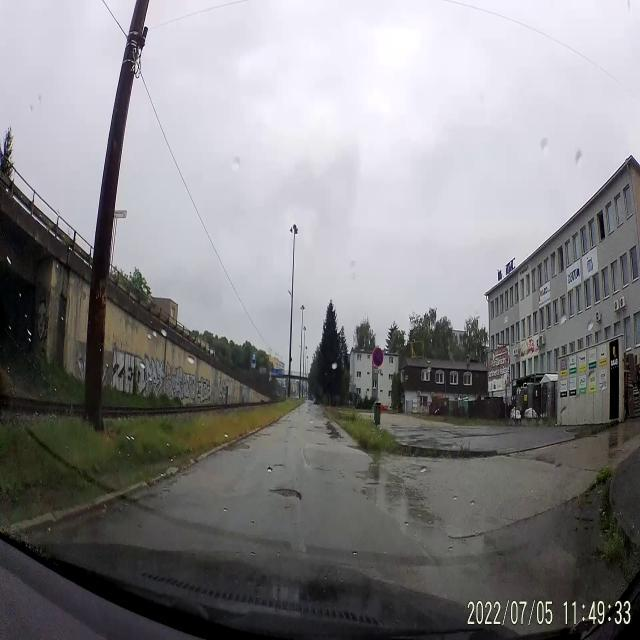Pothole: (262, 479, 307, 509), (448, 523, 490, 555), (314, 465, 332, 475), (314, 438, 328, 450), (270, 460, 286, 468), (286, 424, 301, 432), (306, 426, 316, 434)
